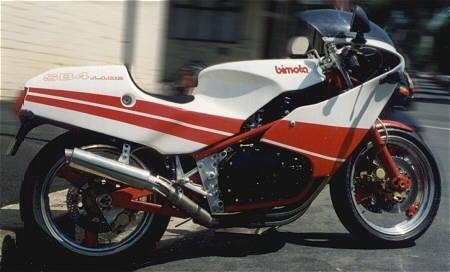motorcycle: (1, 7, 450, 266)
